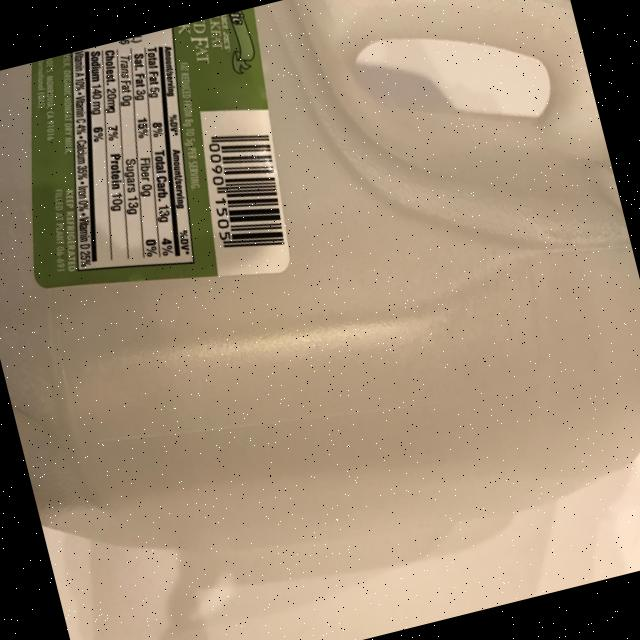plastic: (0, 7, 317, 331)
